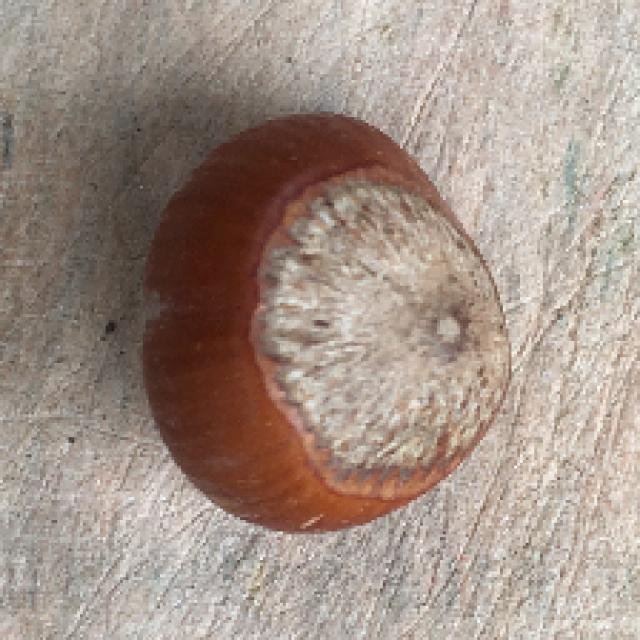qualityHazelnut: (125, 90, 518, 548)
